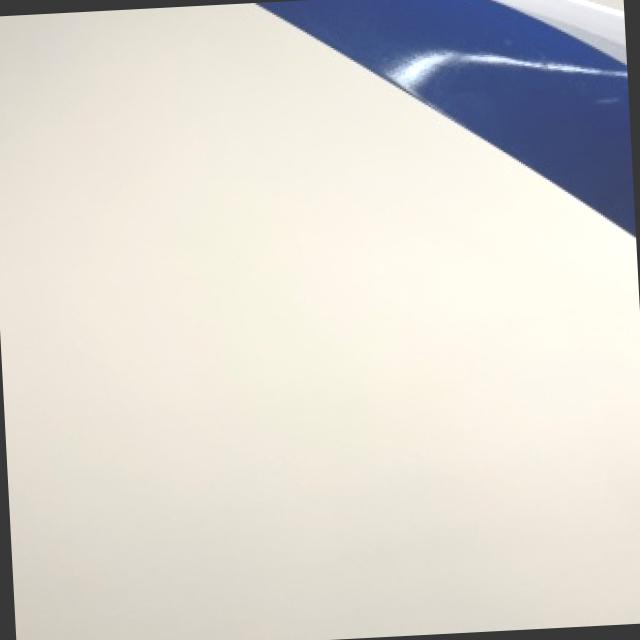healthy: (259, 0, 634, 231)
